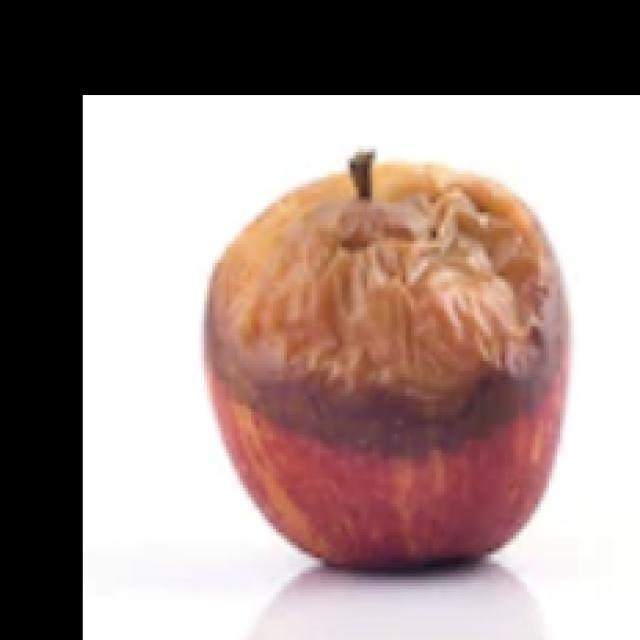Rotten: (207, 158, 576, 578)
